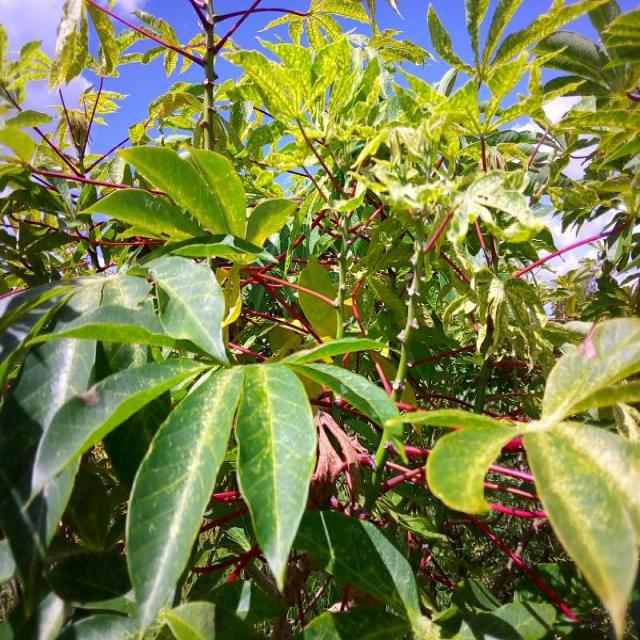cassava leaf: (124, 362, 244, 636), (522, 418, 638, 637), (235, 362, 318, 593), (116, 142, 247, 241), (424, 416, 519, 515)
